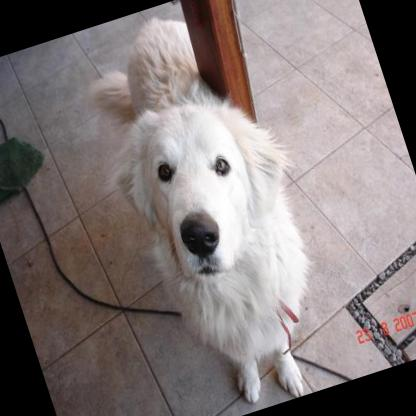kuvasz: (72, 0, 356, 416)
